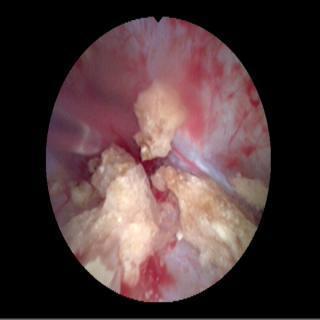stone: (63, 145, 173, 293), (152, 167, 257, 270), (134, 83, 189, 160), (230, 174, 266, 207), (68, 180, 95, 207)
